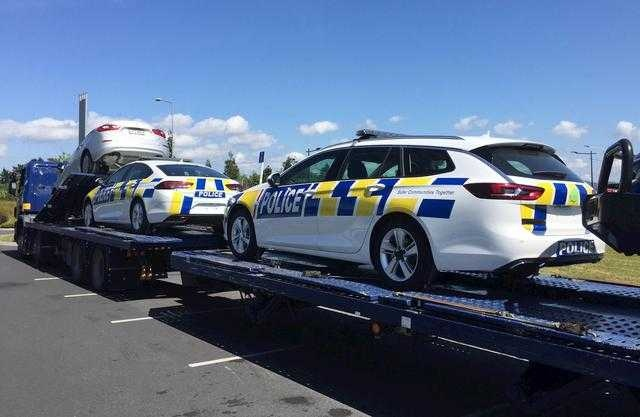Police Car: (224, 127, 622, 289), (63, 154, 239, 230)
